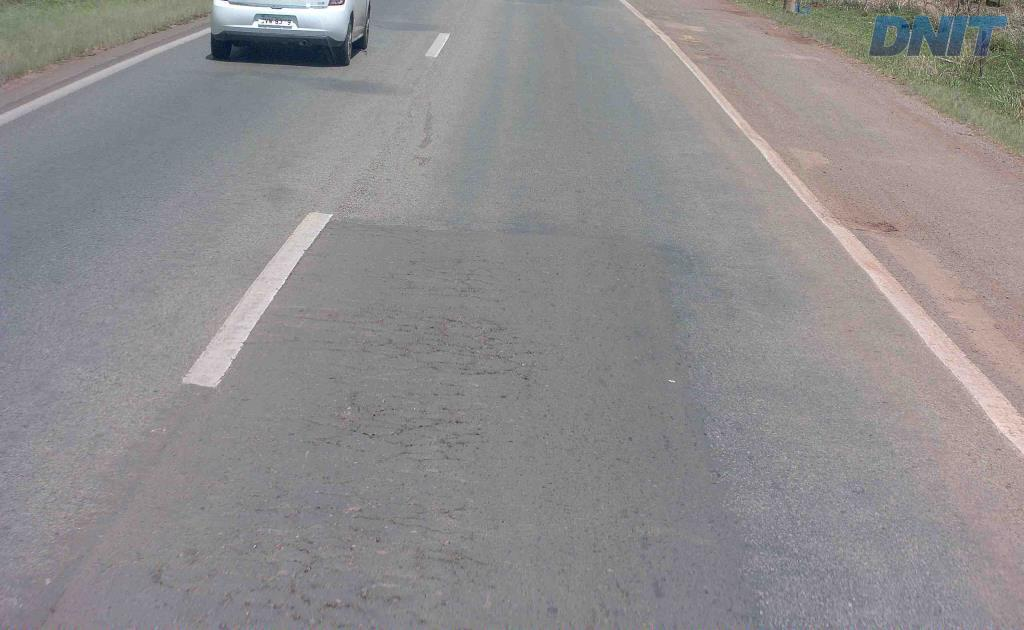crack: (429, 543, 492, 569), (467, 359, 536, 381)
